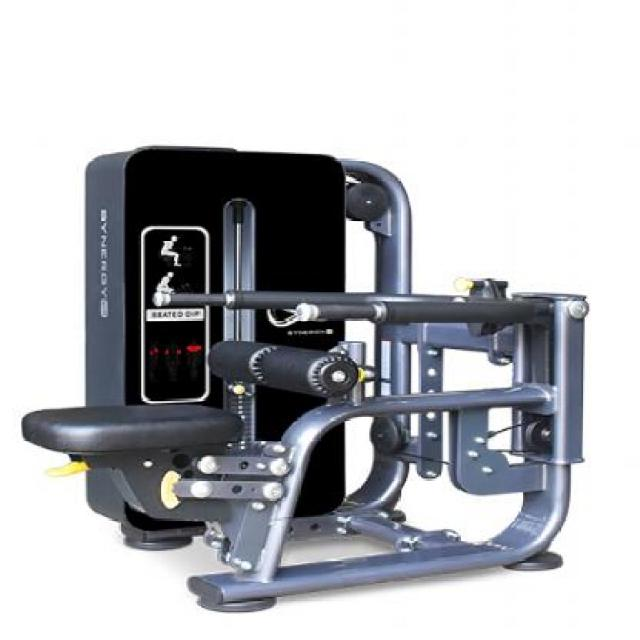seated dip machine: (22, 143, 589, 615)
